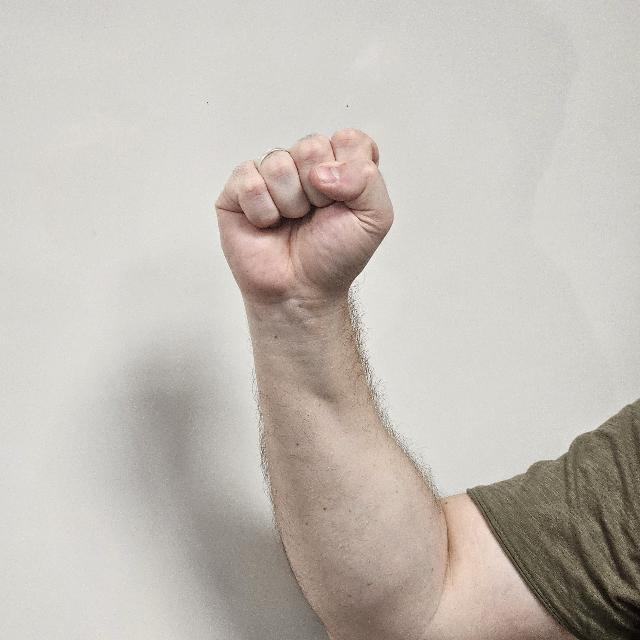Quadro: (208, 128, 396, 324)
